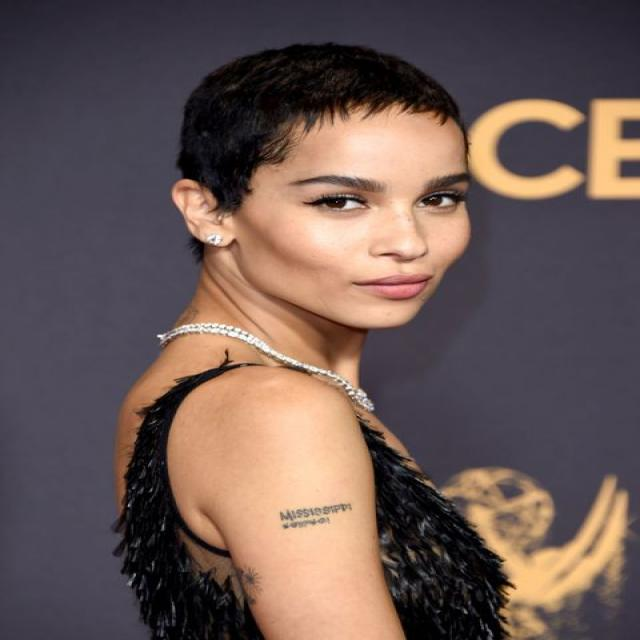mobile_phonerotation: (109, 40, 519, 639)
